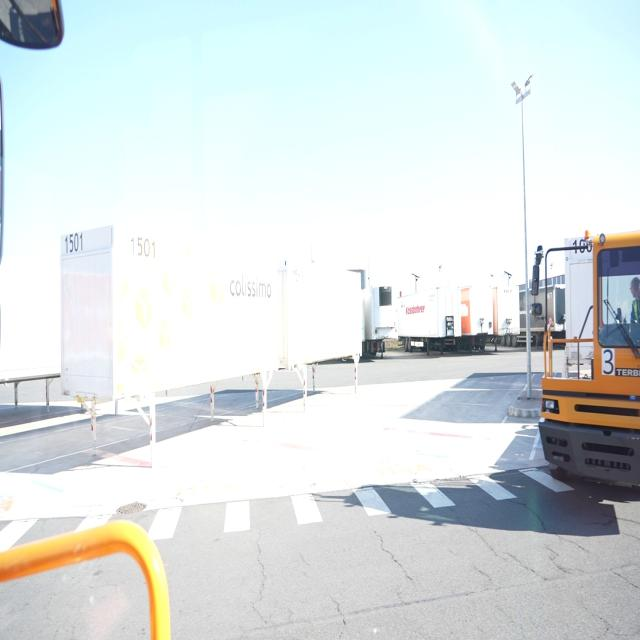Code: (126, 229, 159, 262), (62, 227, 87, 257)
